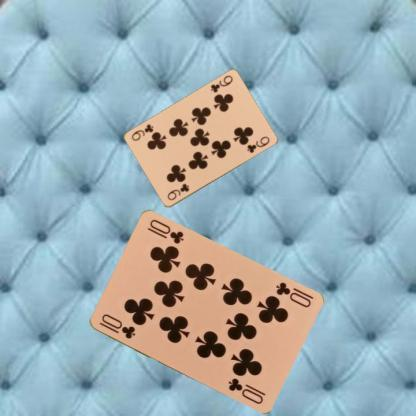10c: (272, 280, 312, 310), (96, 311, 137, 340)
9c: (164, 180, 190, 202), (208, 73, 234, 94)
